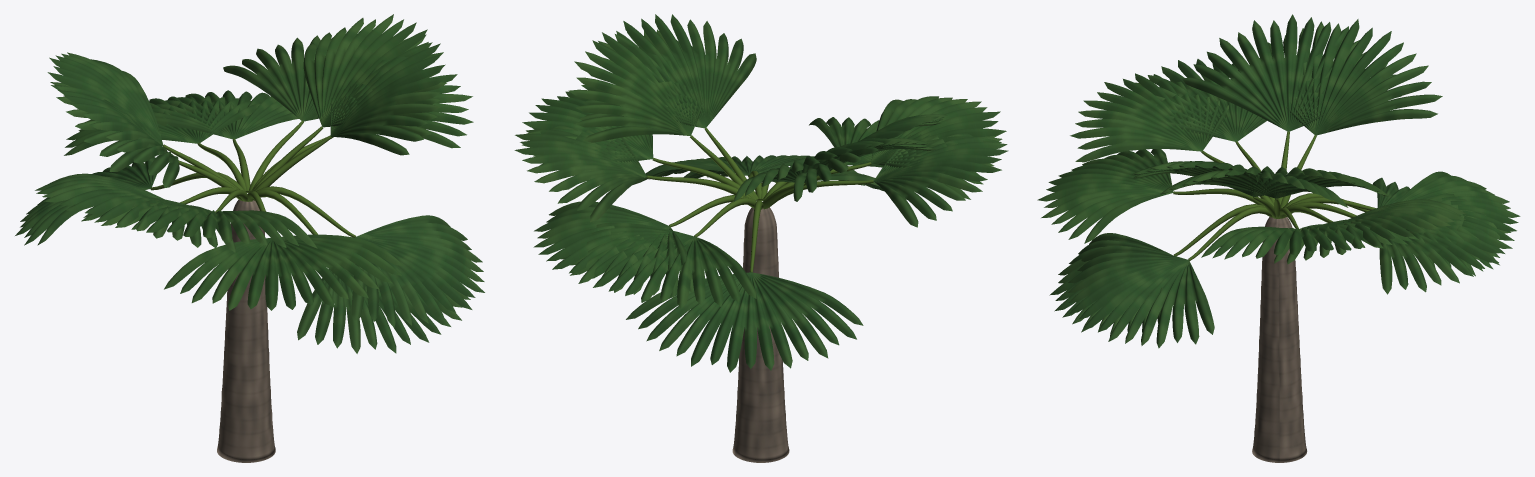
The model's file is n-palmfan.glb.
3 renders of one model, left to right at view 1: azimuth 30°, elevation 25°; view 2: azimuth 150°, elevation 25°; view 3: azimuth 270°, elevation 25°, orthographic. The views are drawn at different scales.
Visible parts, largest first — view 1: Foliage, Bark, Stems; view 2: Foliage, Bark, Stems; view 3: Foliage, Bark, Stems.
Boxes of the visible parts, x1,y1,x2,y2 form: Foliage: (15,14,484,353); Bark: (217,199,275,462); Stems: (150,120,355,237); Foliage: (514,14,1008,372); Bark: (732,207,789,462); Stems: (646,128,873,272); Foliage: (1037,14,1520,348); Bark: (1252,217,1307,462); Stems: (1173,131,1375,260).
Bounding box in the file's own units: 2.48 × 2.09 × 2.54.
3 materials, 2 textured.
